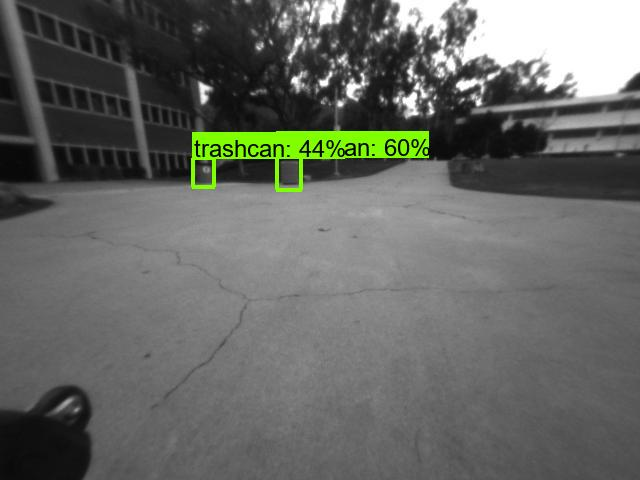trashcan: (279, 160, 301, 185), (196, 162, 216, 186)
